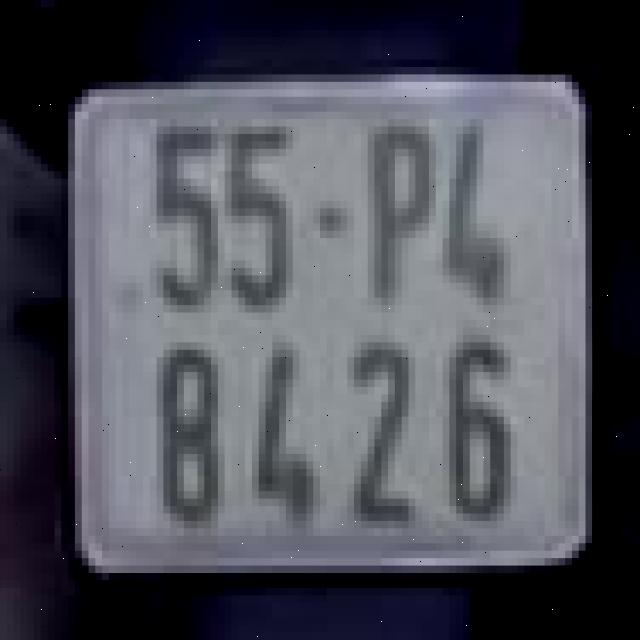2: (350, 324, 426, 547)
4: (439, 108, 514, 316), (248, 328, 324, 528)
5: (146, 108, 228, 316), (221, 112, 296, 335)
6: (450, 331, 524, 525)
8: (153, 335, 221, 536)
P: (361, 100, 442, 309)
